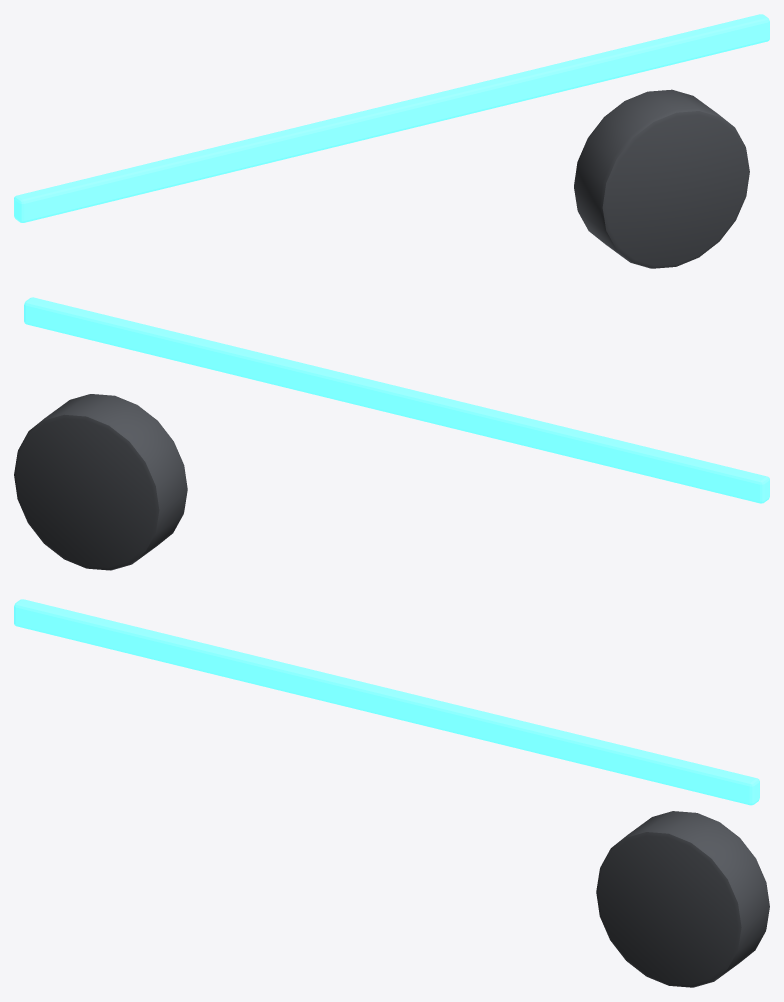
File: cell_0_2_lod0.glb
3 views of the same model, one above another, from view 1: azimuth 30°, elevation 25°; view 2: azimuth 150°, elevation 25°; view 3: azimuth 330°, elevation 25° (orthographic).
Parts seen in each view (by area): view 1: P_EQ_agv_01__wheel_1, P_EQ_agv_01__lightband_L; view 2: P_EQ_agv_01__wheel_1, P_EQ_agv_01__lightband_L; view 3: P_EQ_agv_01__wheel_1, P_EQ_agv_01__lightband_L.
Part boxes in pixels (bbox=[...]): P_EQ_agv_01__wheel_1: bbox=[574, 89, 749, 268]; P_EQ_agv_01__lightband_L: bbox=[14, 14, 769, 222]; P_EQ_agv_01__wheel_1: bbox=[14, 394, 187, 570]; P_EQ_agv_01__lightband_L: bbox=[24, 297, 769, 503]; P_EQ_agv_01__wheel_1: bbox=[596, 811, 769, 987]; P_EQ_agv_01__lightband_L: bbox=[14, 599, 759, 805].
Bounding box in the file's own units: 1 × 0.295 × 0.08.
